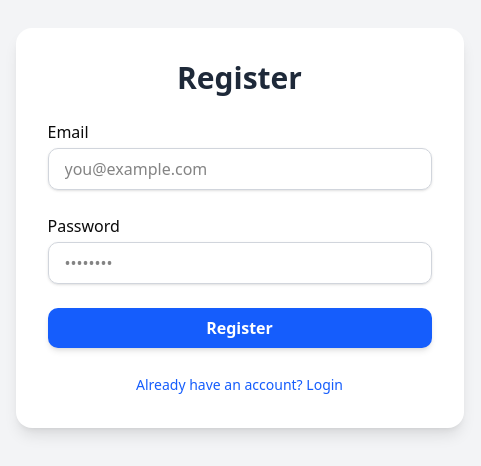
Register - Email and Password Validation (Formik + Yup) › Email Validation › should register unsuccessfully because email is empty
In the password field named "password": [240, 263] box [48, 242, 432, 284], type "Aa123456789_"
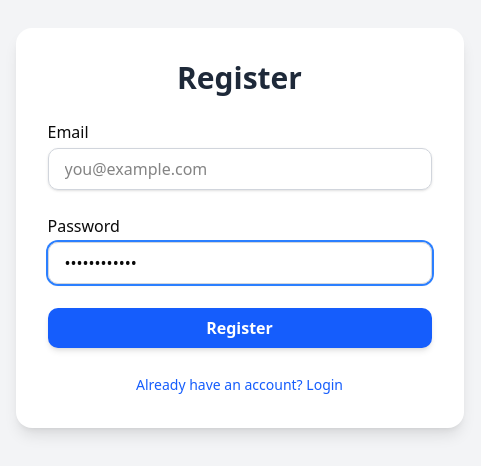
Click the submit button: [240, 328] box [48, 308, 432, 348]
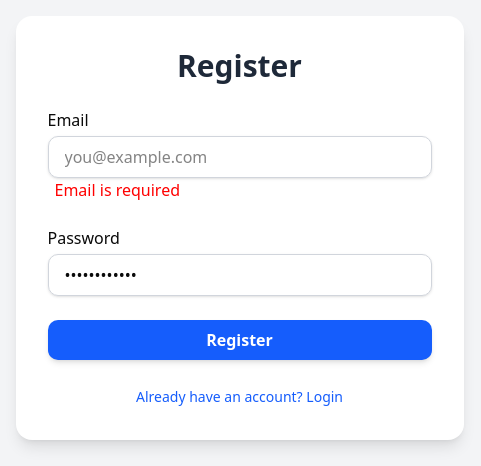
Check: the heading named "error-email" reads "Email is required", box [55, 179, 181, 201]
